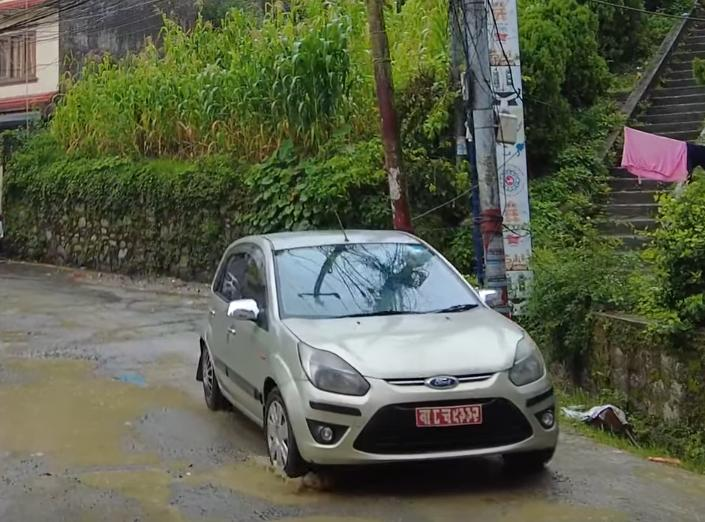car: (180, 217, 579, 476)
